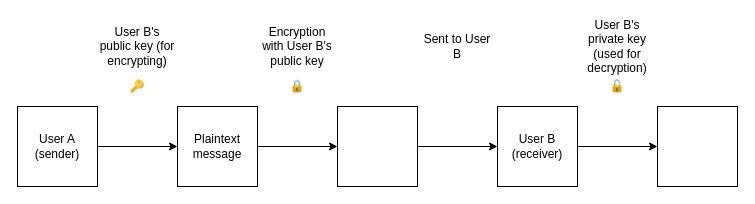
The diagram is 755 pixels wide and 204 high, and some of its shapes have lost their labels. The shapes that lost their labels are listed below. From the top down, each one's centre as x and y in pixels, then its label:
At (377,146): "Ciphertext".
At (697,146): "Decrypted plaintext message".
